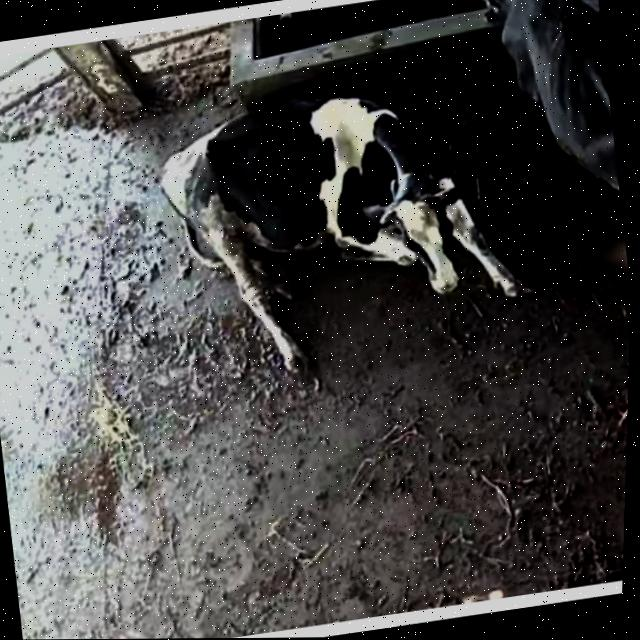drink: (377, 0, 577, 76)
